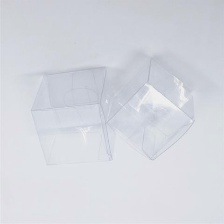plastic_box: (100, 49, 200, 167), (26, 63, 119, 171)
